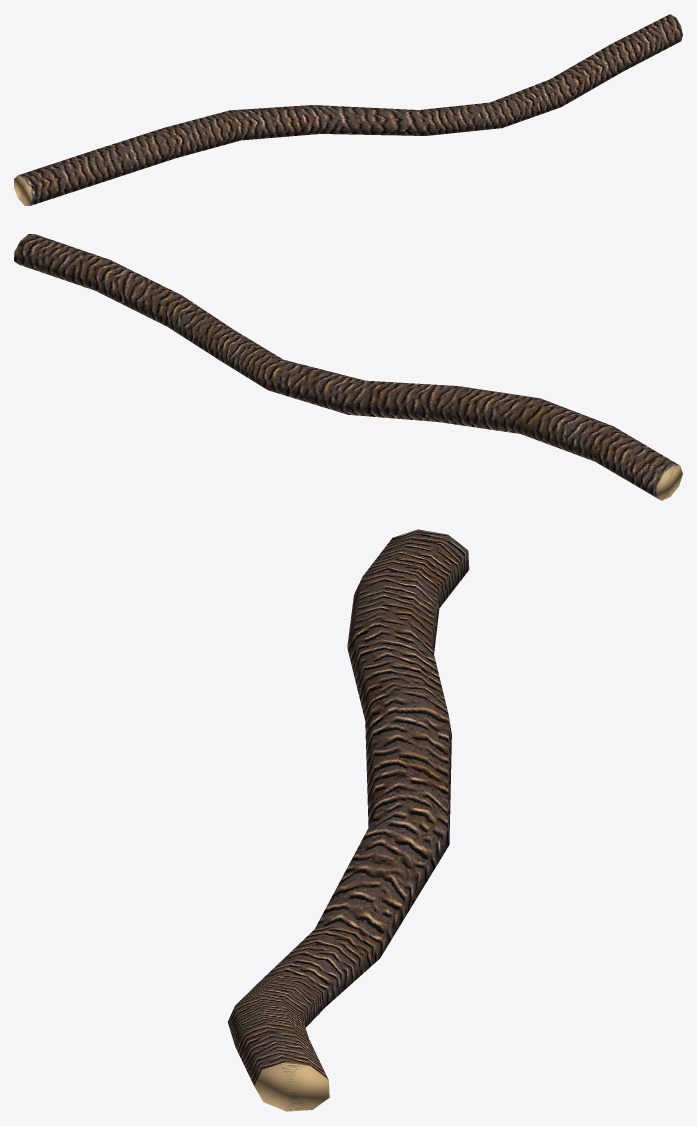
File: PalmTwistShape8.dae
3 renders of one model, top to bottom at view 1: azimuth 30°, elevation 25°; view 2: azimuth 150°, elevation 25°; view 3: azimuth 270°, elevation 25°, orthographic. The views are drawn at different scales.
Visible parts, largest first — view 1: PalmTwist8; view 2: PalmTwist8; view 3: PalmTwist8.
Part boxes in pixels (<box>): PalmTwist8: <box>14,14,682,205</box>; PalmTwist8: <box>14,234,682,500</box>; PalmTwist8: <box>227,529,469,1111</box>.
Bounding box in the file's own units: 164 × 17.72 × 27.59.
